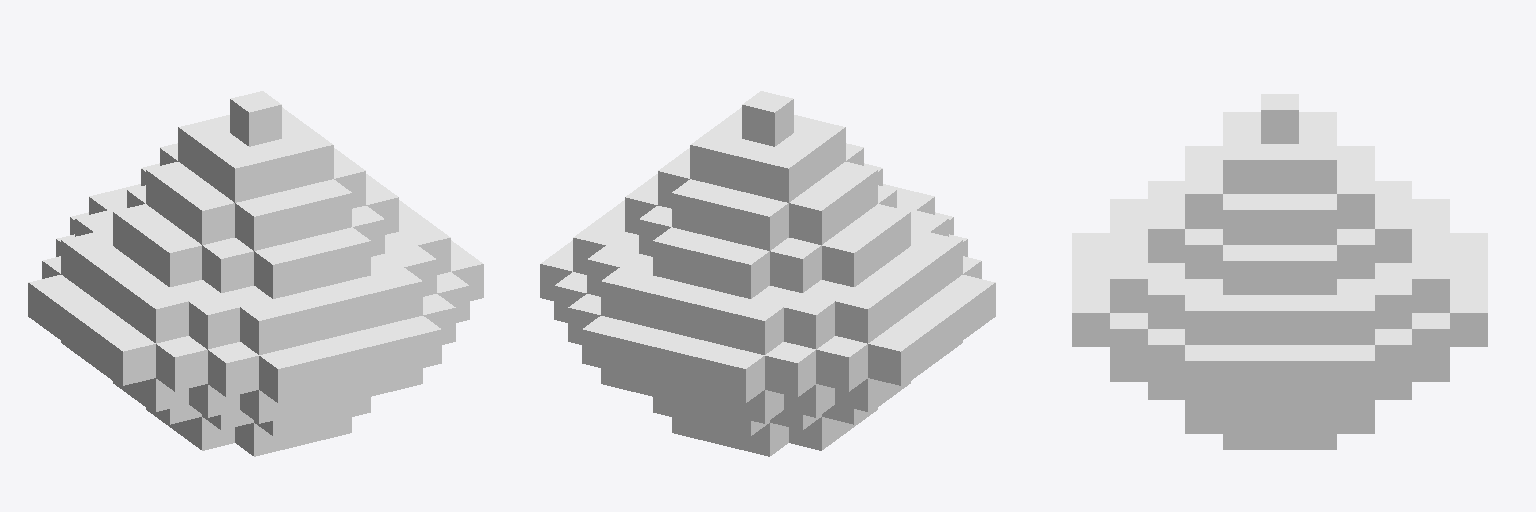
The model's file is Swarmer.obj.
3 renders of one model, left to right at view 1: azimuth 30°, elevation 25°; view 2: azimuth 150°, elevation 25°; view 3: azimuth 270°, elevation 25°, orthographic.
Visible parts, largest first — view 1: object 1; view 2: object 1; view 3: object 1.
Boxes of the visible parts, x1=… form: object 1: x1=28, y1=91, x2=483, y2=456; object 1: x1=540, y1=91, x2=995, y2=456; object 1: x1=1072, y1=94, x2=1487, y2=449.
Size of the model in its own units: 11 by 9 by 11.